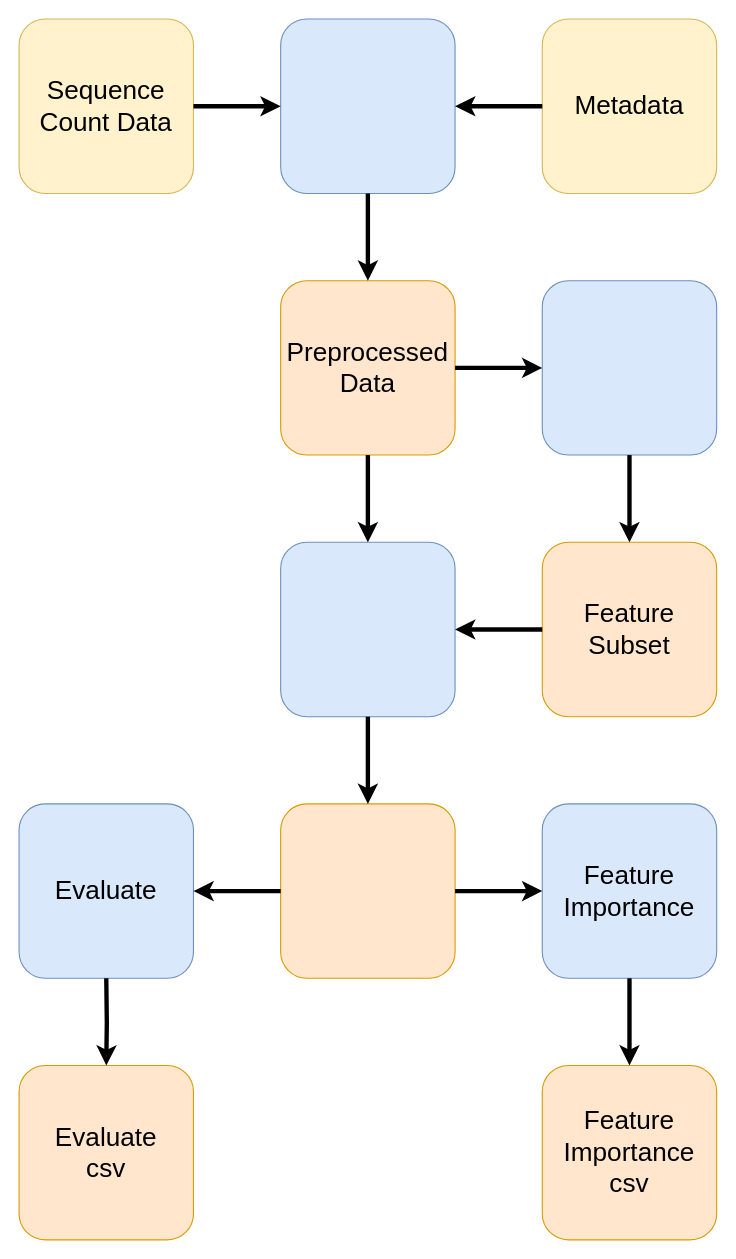
This 736x1259 diagram has some shape labels left out. The centre of each missing label's shape, as x and y in pixels:
Feature Selection: (629,367)
Preprocess: (367,105)
Train: (367,629)
Trained Model: (367,890)
